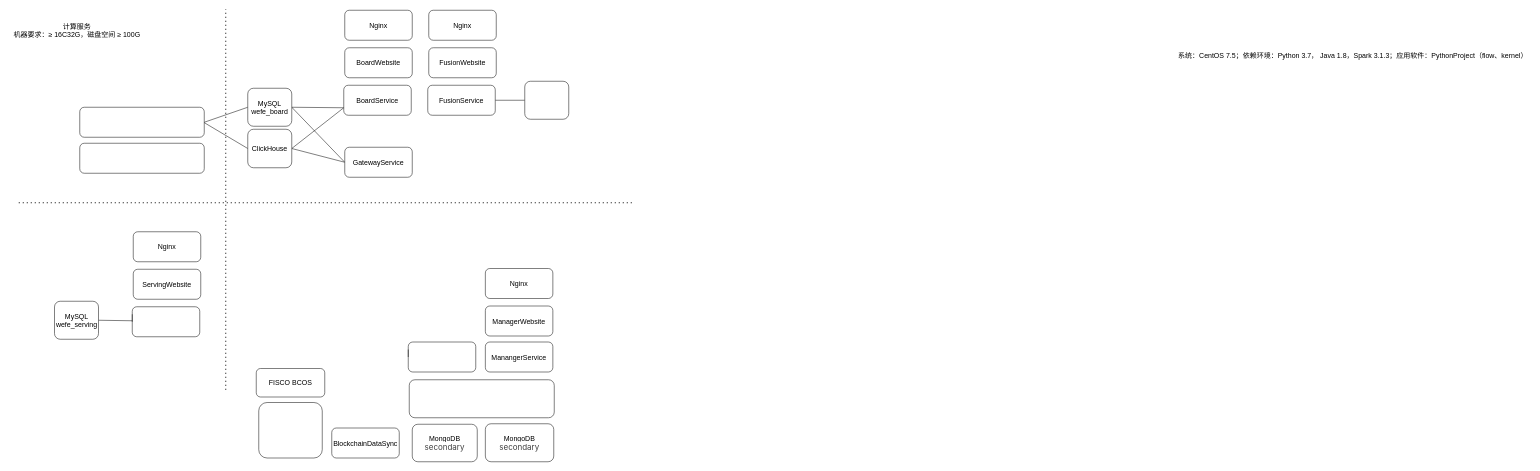
Some shapes in this 1540 by 471 pixel diagram are drawn without their labels. Here are the shapes that lost their labels. From the top down, the box of each, then its label:
(524, 81, 569, 119): MySQL wefe_fusion
(79, 107, 204, 137): PythonProject (flow, kernel)
(79, 143, 204, 173): Spark
(132, 306, 200, 337): ServingService
(408, 342, 476, 372): UnionService
(409, 379, 554, 418): MongoDB primary
(258, 402, 322, 458): MySQL wefe_block01 wefe_block02 wefe_block03 wefe_block04
